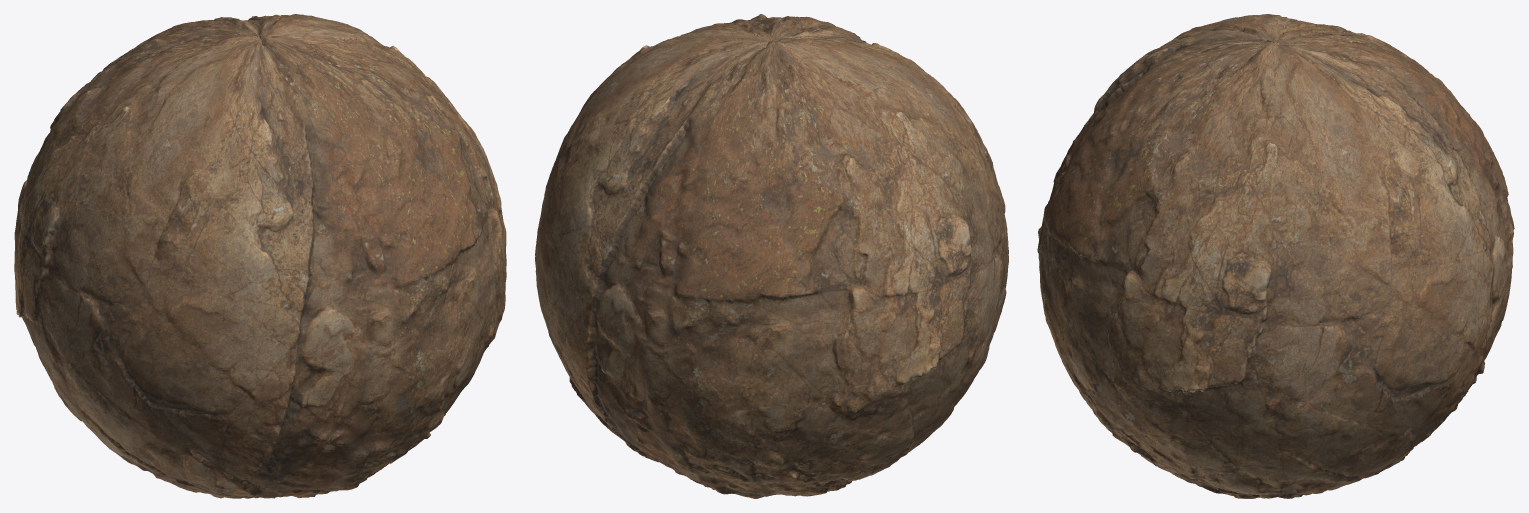
File: rock_face_03_2k.gltf
The picture shows the model from 3 angles, left to right: view 1: azimuth 30°, elevation 25°; view 2: azimuth 150°, elevation 25°; view 3: azimuth 270°, elevation 25°; orthographic projection.
Parts seen in each view (by area): view 1: sphere_gltf; view 2: sphere_gltf; view 3: sphere_gltf.
Part boxes in pixels (x1=…): sphere_gltf: x1=14, y1=14, x2=506, y2=498; sphere_gltf: x1=535, y1=14, x2=1008, y2=498; sphere_gltf: x1=1037, y1=14, x2=1514, y2=498.
Size of the model in its own units: 2.74 by 2.76 by 2.72.
Materials: 1 (1 with a texture image).
